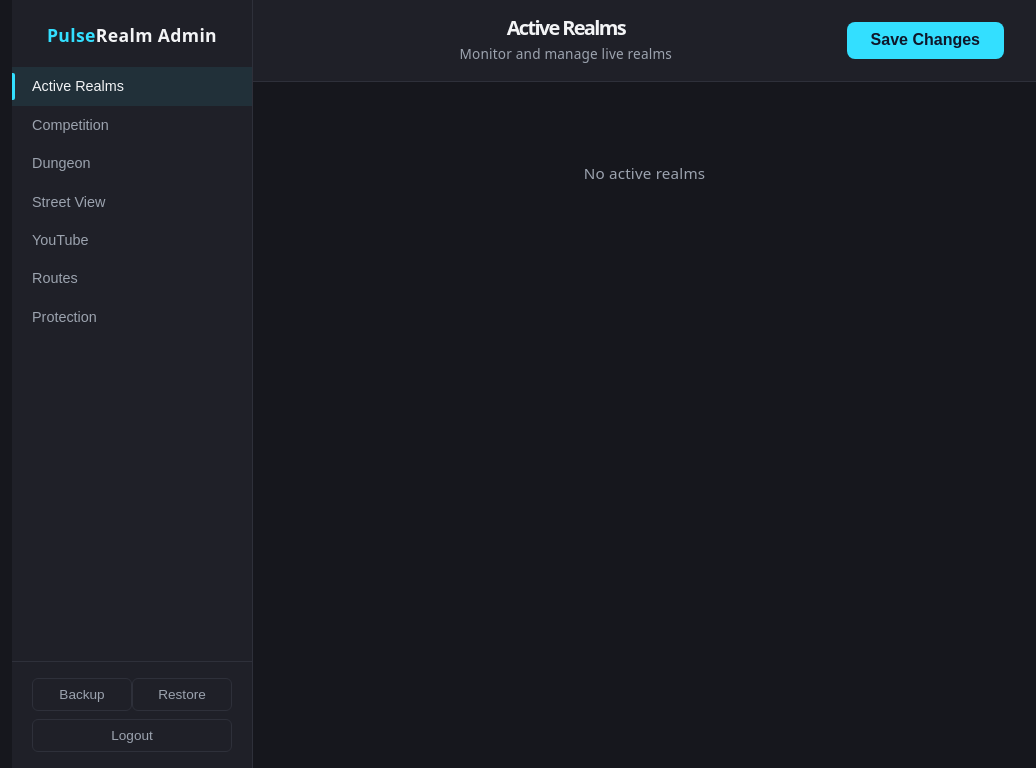
it: AdminDashboard › shows 'Save failed' message on save error
This screenshot has width=1036, height=768.
Click the button "Save Changes" at (925, 40), box [847,22,1004,59]
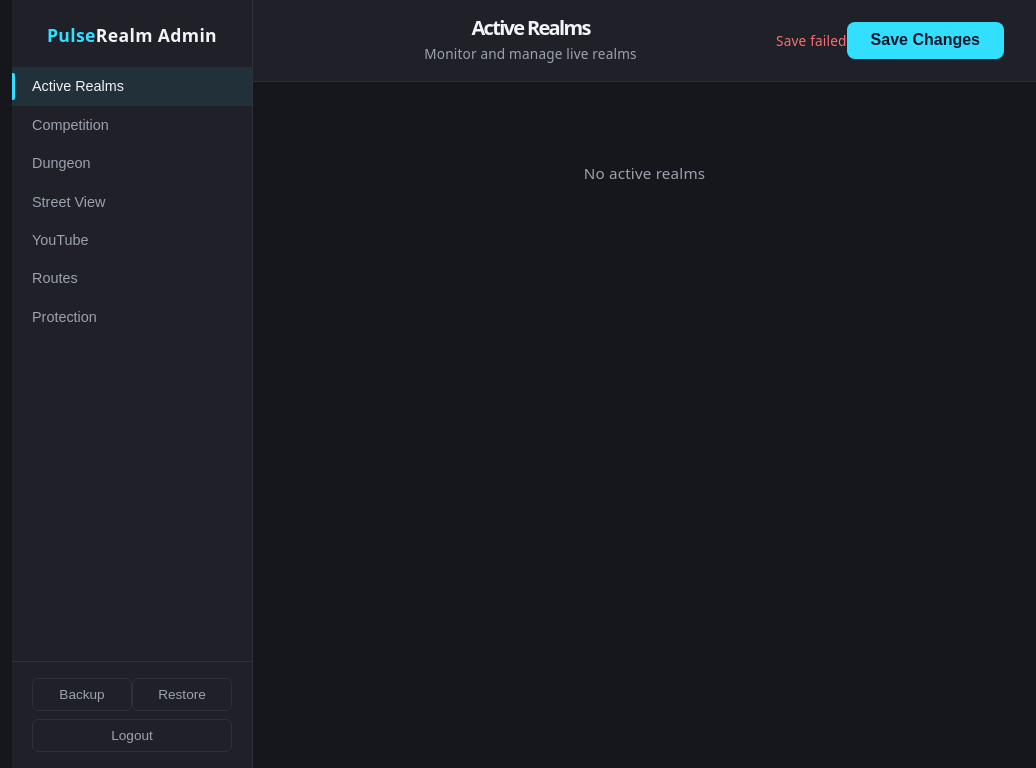
expect the text "Save failed" is shown: met, box [776,29,847,52]
